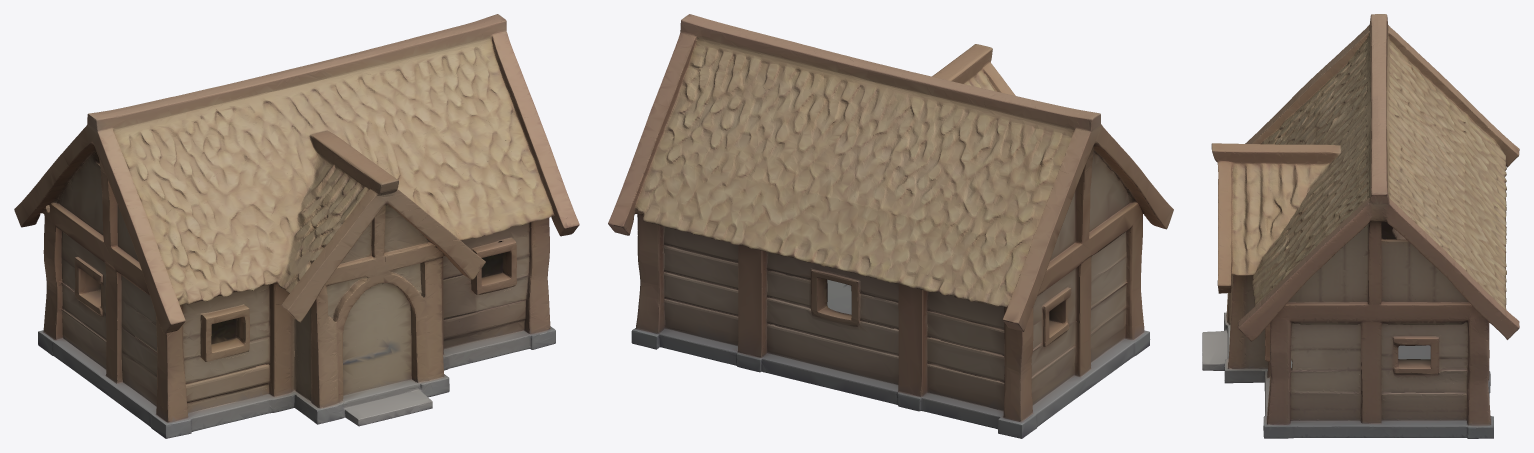
Rendered from nordic-hut_lod1.glb.
3 views of the same model, side by side, from view 1: azimuth 30°, elevation 25°; view 2: azimuth 150°, elevation 25°; view 3: azimuth 270°, elevation 25° (orthographic). The views are drawn at different scales.
Visible parts, largest first — view 1: geometry_0; view 2: geometry_0; view 3: geometry_0.
Part boxes in pixels (x1,y1,x2,y2): geometry_0: [14, 14, 579, 438]; geometry_0: [608, 14, 1173, 438]; geometry_0: [1202, 14, 1519, 438].
Size of the model in its own units: 1 by 0.6499 by 0.7458.
